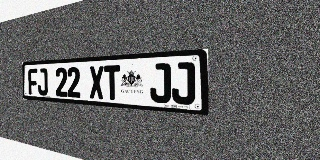2: (67, 67, 80, 98), (56, 67, 67, 97)
F: (28, 68, 38, 95)
J: (171, 62, 195, 105), (150, 63, 171, 104), (37, 68, 48, 96)
T: (104, 65, 120, 100)
X: (89, 66, 104, 99)
